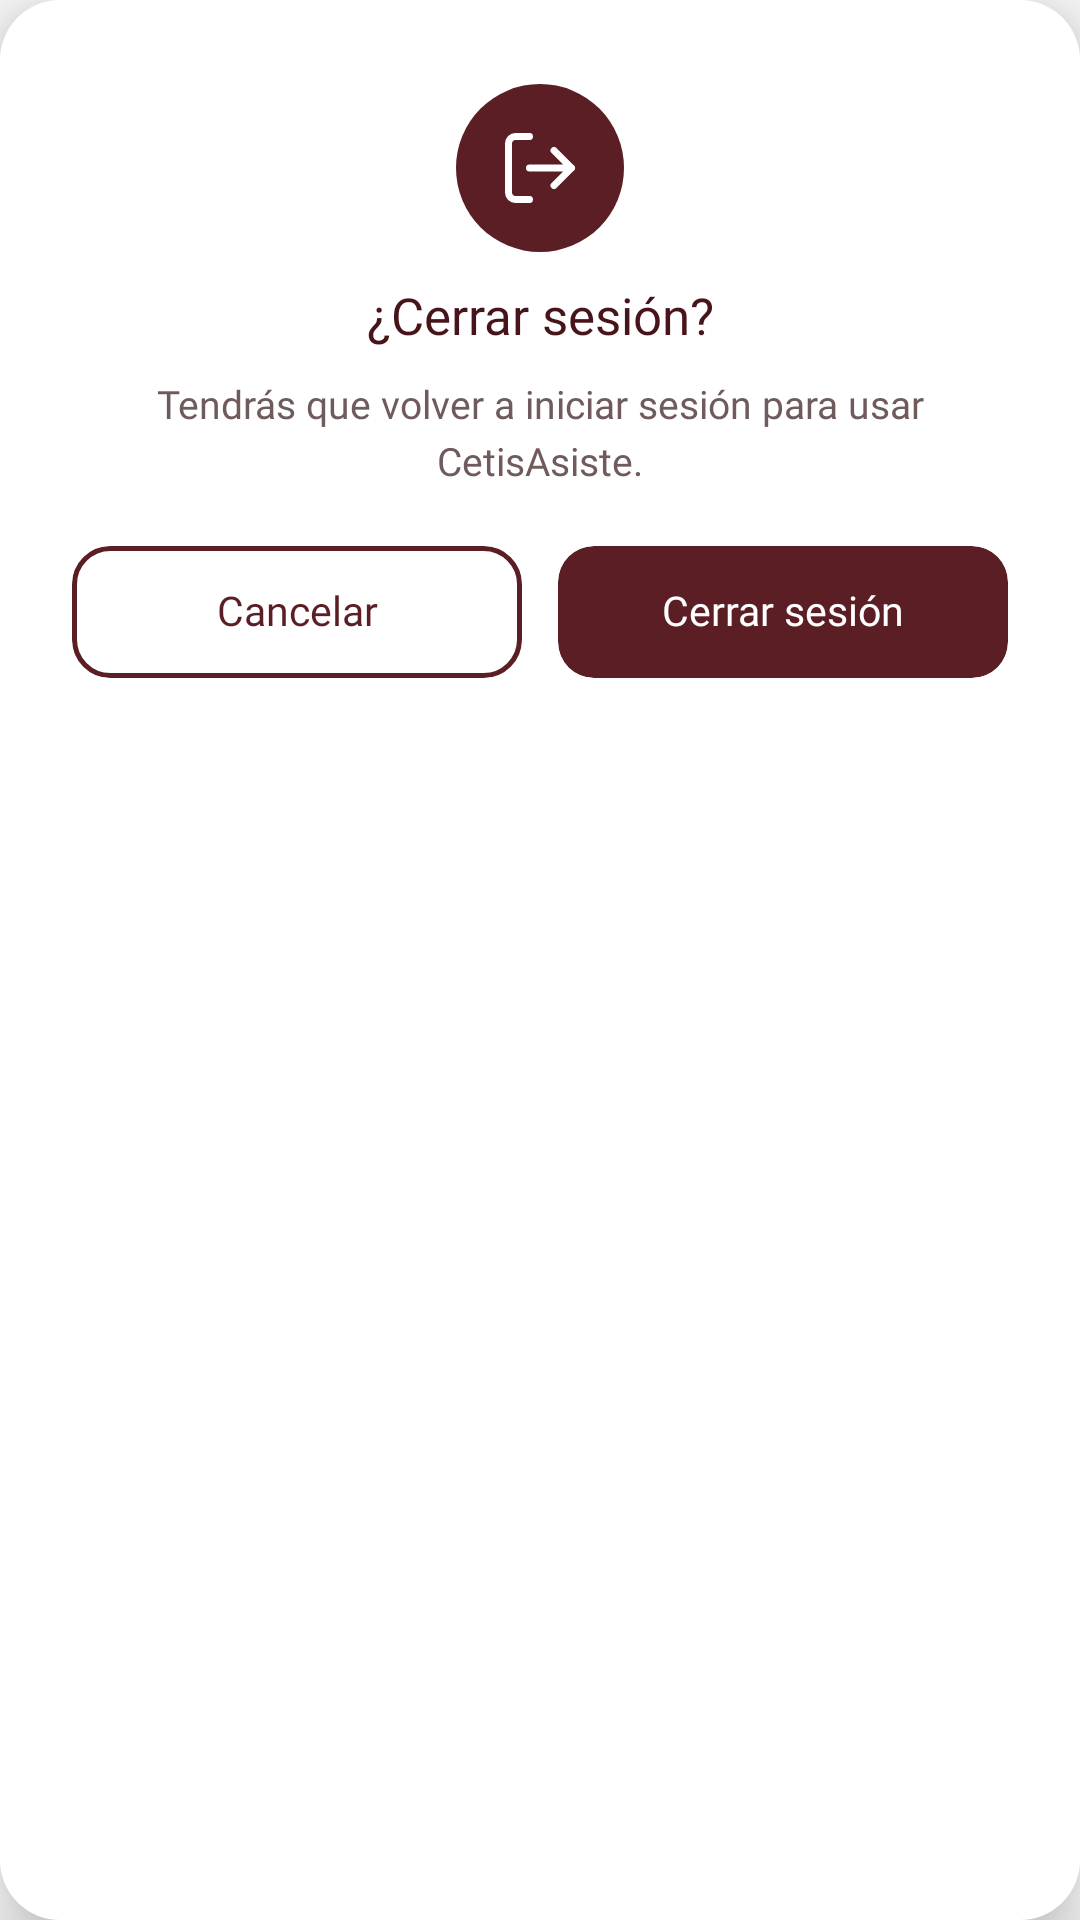

Named icons in this screenshot (1080*1920) and their centers, (x,y):
log out: (540,168)
